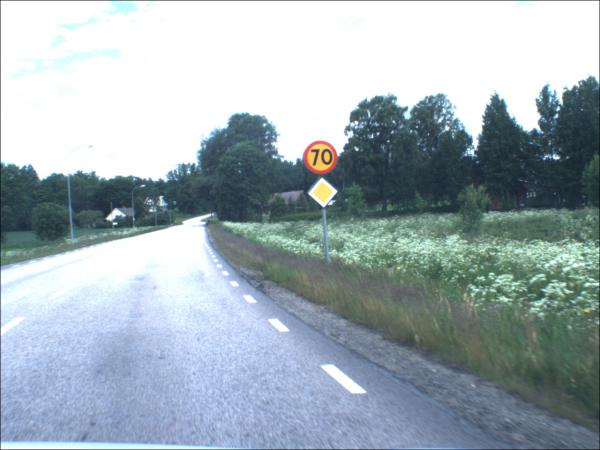70_SIGN: (303, 142, 340, 177)
PRIORITY_ROAD: (308, 178, 341, 209)
